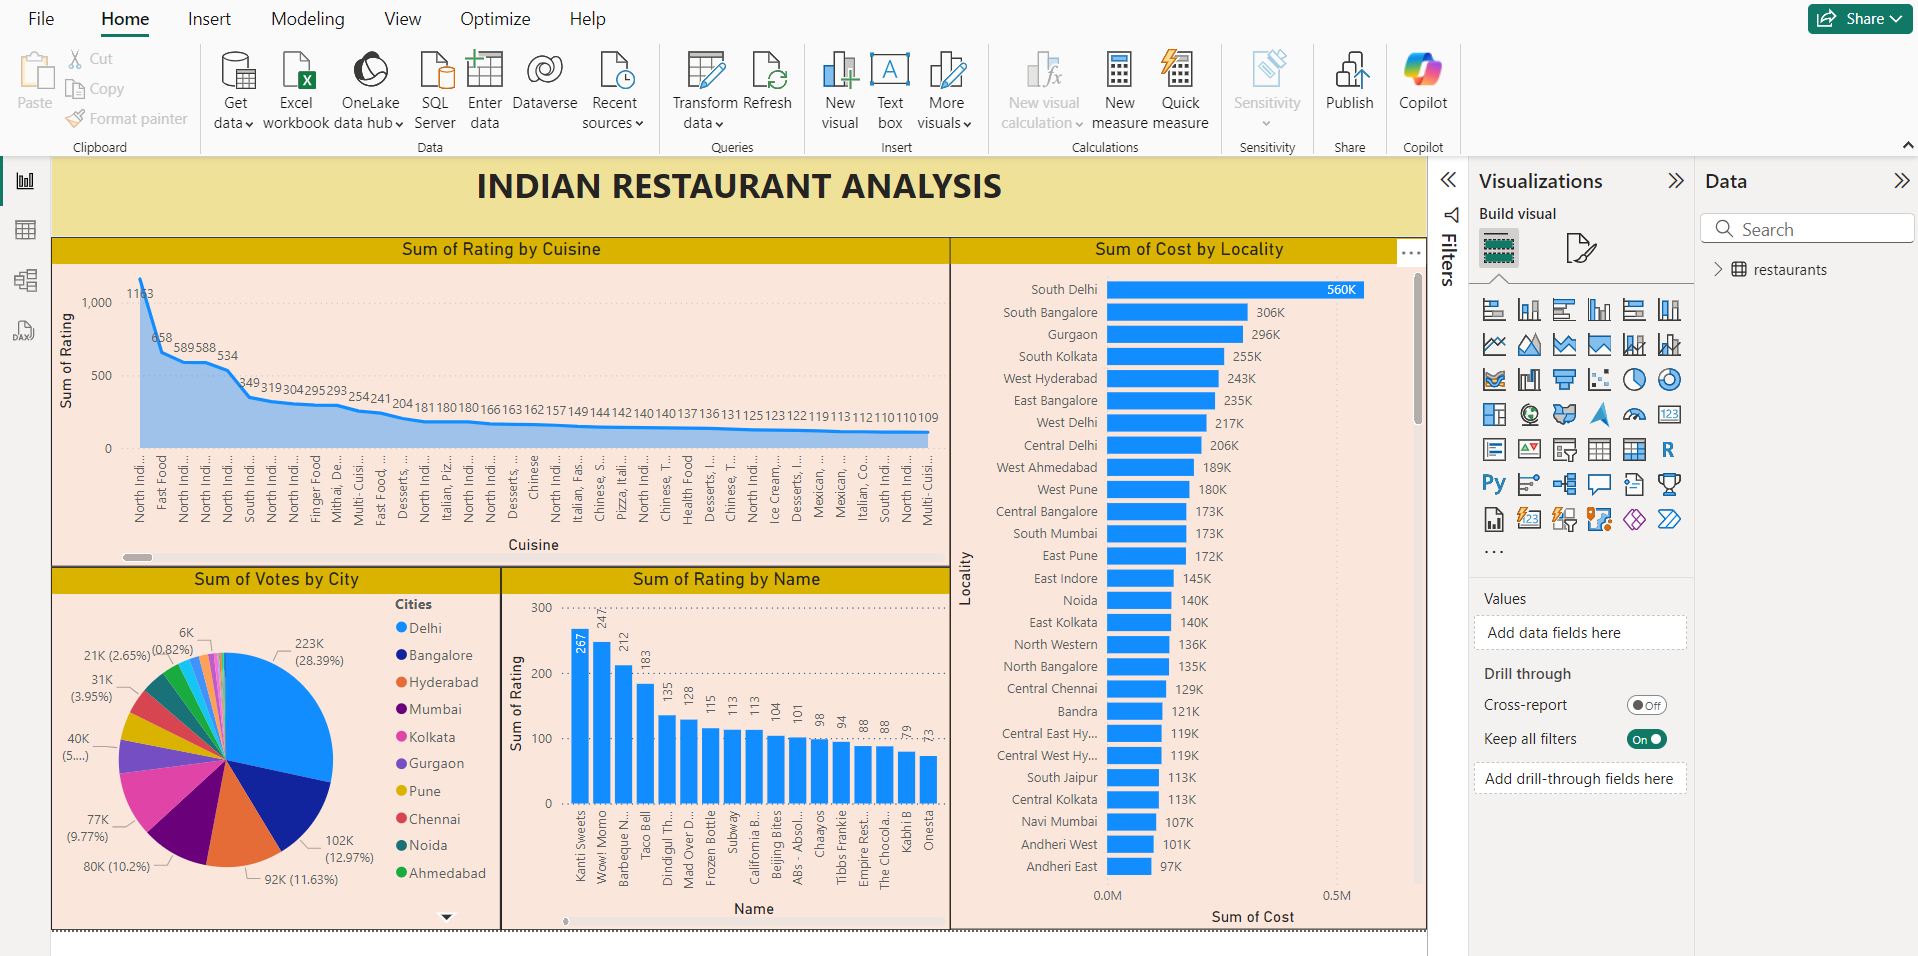

The page's visual inventory and layout, read from the dashboard file:
{"tool":"powerbi","page":{"name":"Page 1","canvas":[1280,720],"ordinal":0},"visuals":[{"type":"columnChart","fields":{"Category":["restaurants.Name"],"Y":["Sum(restaurants.Rating)"]},"box":[418.2,382,418.2,338],"z":0},{"type":"pieChart","fields":{"Category":["restaurants.City"],"Y":["Sum(restaurants.Votes)"]},"box":[0,382,418.2,338],"z":1000},{"type":"areaChart","fields":{"Category":["restaurants.Cuisine"],"Y":["Sum(restaurants.Rating)"]},"box":[0,75.7,836.4,306.3],"z":2000},{"type":"barChart","fields":{"Y":["Sum(restaurants.Cost)"],"Category":["restaurants.Locality"]},"box":[836,75.6,444.2,644.2],"z":3000},{"type":"textbox","box":[0,0,1280.2,75.6],"z":4000}]}

Visuals, with their boxes on the page's 1280x720 design canvas (x1, y1, x2, y2). These are canvas units, not pixel positions in the 1918x956 screenshot, which may show the page scaled, cropped or inside an application window:
columnChart - restaurants.Name x Sum(restaurants.Rating): crop(418, 382, 836, 720)
pieChart - restaurants.City x Sum(restaurants.Votes): crop(0, 382, 418, 720)
areaChart - restaurants.Cuisine x Sum(restaurants.Rating): crop(0, 76, 836, 382)
barChart - Sum(restaurants.Cost) x restaurants.Locality: crop(836, 76, 1280, 720)
textbox: crop(0, 0, 1280, 76)
